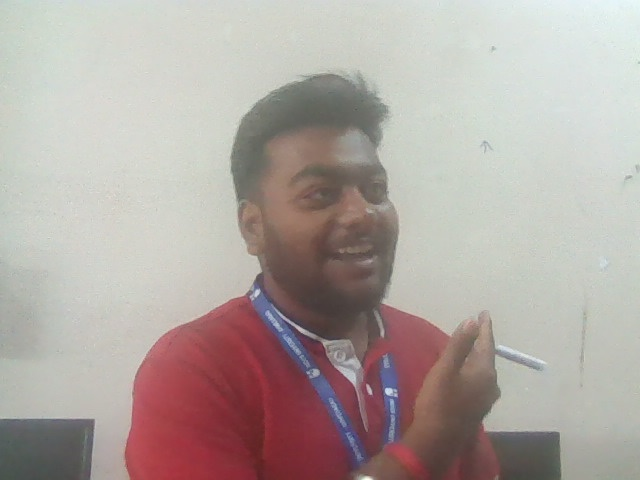smoking: (417, 311, 552, 437)
